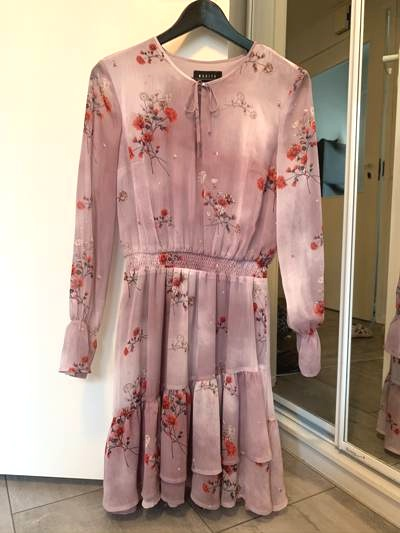Dress: (48, 30, 359, 499)
